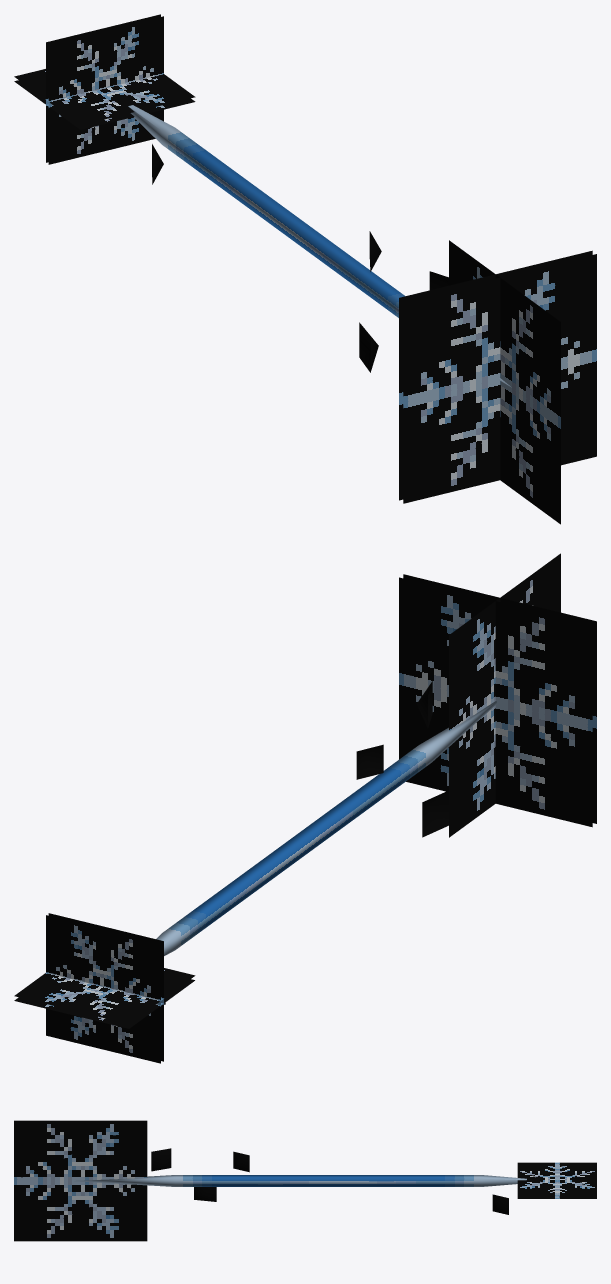
The picture shows the model from 3 angles, top to bottom: view 1: azimuth 30°, elevation 25°; view 2: azimuth 150°, elevation 25°; view 3: azimuth 270°, elevation 25°; orthographic projection. The views are drawn at different scales.
Parts seen in each view (by area): view 1: 2721sbim03_14; view 2: 2721sbim03_14; view 3: 2721sbim03_14.
Part boxes in pixels (x1,y1,x2,y2): 2721sbim03_14: (14,14,596,524); 2721sbim03_14: (14,553,596,1063); 2721sbim03_14: (14,1120,596,1241).
Bounding box in the file's own units: 0.4688 × 0.4688 × 2.05.
Materials: 1 (1 with a texture image).
